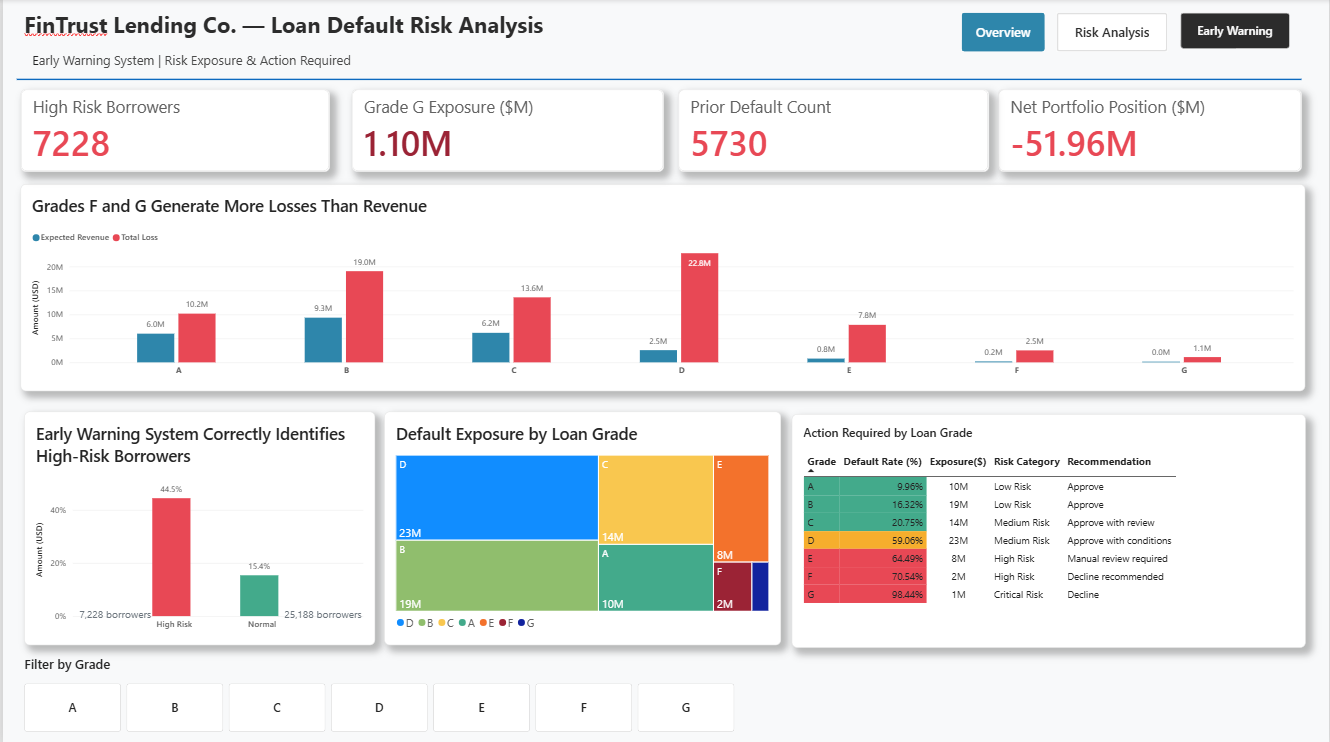

What the dashboard file says about the page in this screenshot:
{"tool":"powerbi","page":{"name":"Early Warning System","canvas":[1920,1080],"ordinal":2},"visuals":[{"type":"textbox","box":[30,15,1850,114],"z":0},{"type":"shape","box":[20,110,1860,12],"z":1000},{"type":"clusteredColumnChart","title":"Grades F and G Generate More Losses Than Revenue","fields":{"Category":["credit_risk_cleaned.loan_grade"],"Y":["credit_risk_cleaned.Expected Revenue","credit_risk_cleaned.Total Loss"]},"box":[26,268,1860,300],"z":2000},{"type":"cardVisual","fields":{"Data":["credit_risk_cleaned.High Risk Count"]},"box":[26,130,448,120],"z":3000},{"type":"cardVisual","fields":{"Data":["credit_risk_cleaned.Net Position"]},"box":[1440,130,440,120],"z":4000},{"type":"cardVisual","fields":{"Data":["credit_risk_cleaned.Prior Default Count"]},"box":[978,130,450,120],"z":5000},{"type":"cardVisual","fields":{"Data":["credit_risk_cleaned.Grade G Exposure"]},"box":[504,130,452,120],"z":6000},{"type":"clusteredColumnChart","title":"Early Warning System Correctly Identifies High-Risk Borrowers","fields":{"Category":["credit_risk_cleaned.risk_flag"],"Y":["credit_risk_cleaned.Default Rate (%)"]},"box":[30,598,508,338],"z":7000},{"type":"textbox","box":[110.4,879.5,133.9,32.6],"z":8000},{"type":"textbox","box":[408,880,130,56],"z":9000},{"type":"treemap","title":"Default Exposure by Loan Grade","fields":{"Group":["credit_risk_cleaned.loan_grade"],"Values":["credit_risk_cleaned.Total Default Exposure"]},"box":[552,598,574,338],"z":10000},{"type":"tableEx","title":"Action Required by Loan Grade","fields":{"Values":["credit_risk_cleaned.loan_grade","credit_risk_cleaned.Default Rate (%)","credit_risk_cleaned.Total Default Exposure","LOAN_GRADE_REFERENCE.risk_category","LOAN_GRADE_REFERENCE.approval_recommendation"]},"box":[1142,600,744,338],"z":11000},{"type":"advancedSlicerVisual","title":"Filter by Grade","fields":{"Values":["credit_risk_cleaned.loan_grade"]},"box":[30,950,1472,130],"z":12000},{"type":"actionButton","box":[1388,20,120,56],"z":13000},{"type":"actionButton","box":[1526,20,160,56],"z":14000},{"type":"actionButton","box":[1704,20,158,52],"z":15000}]}

Visuals, with their boxes in screenshot pixels (x1, y1, x2, y2), scaled from the page's 1920x1080 canvas onto the 1330x742 screenshot:
textbox: box=[21, 10, 1302, 89]
shape: box=[14, 76, 1302, 84]
"Grades F and G Generate More Losses Than Revenue" clusteredColumnChart: box=[18, 184, 1306, 390]
cardVisual - credit_risk_cleaned.High Risk Count: box=[18, 89, 328, 172]
cardVisual - credit_risk_cleaned.Net Position: box=[998, 89, 1302, 172]
cardVisual - credit_risk_cleaned.Prior Default Count: box=[677, 89, 989, 172]
cardVisual - credit_risk_cleaned.Grade G Exposure: box=[349, 89, 662, 172]
"Early Warning System Correctly Identifies High-Risk Borrowers" clusteredColumnChart: box=[21, 411, 373, 643]
textbox: box=[76, 604, 169, 627]
textbox: box=[283, 605, 373, 643]
"Default Exposure by Loan Grade" treemap: box=[382, 411, 780, 643]
"Action Required by Loan Grade" tableEx: box=[791, 412, 1306, 644]
"Filter by Grade" advancedSlicerVisual: box=[21, 653, 1040, 741]
actionButton: box=[961, 14, 1045, 52]
actionButton: box=[1057, 14, 1168, 52]
actionButton: box=[1180, 14, 1290, 49]
